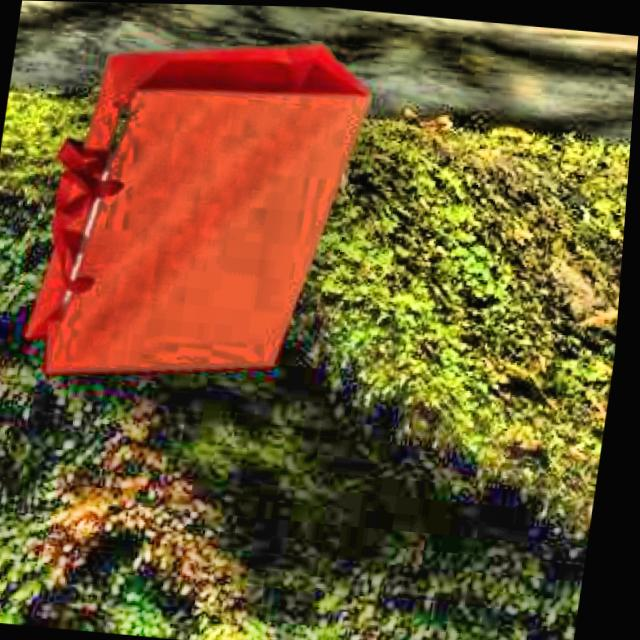Paper-bag: (0, 5, 385, 407)
